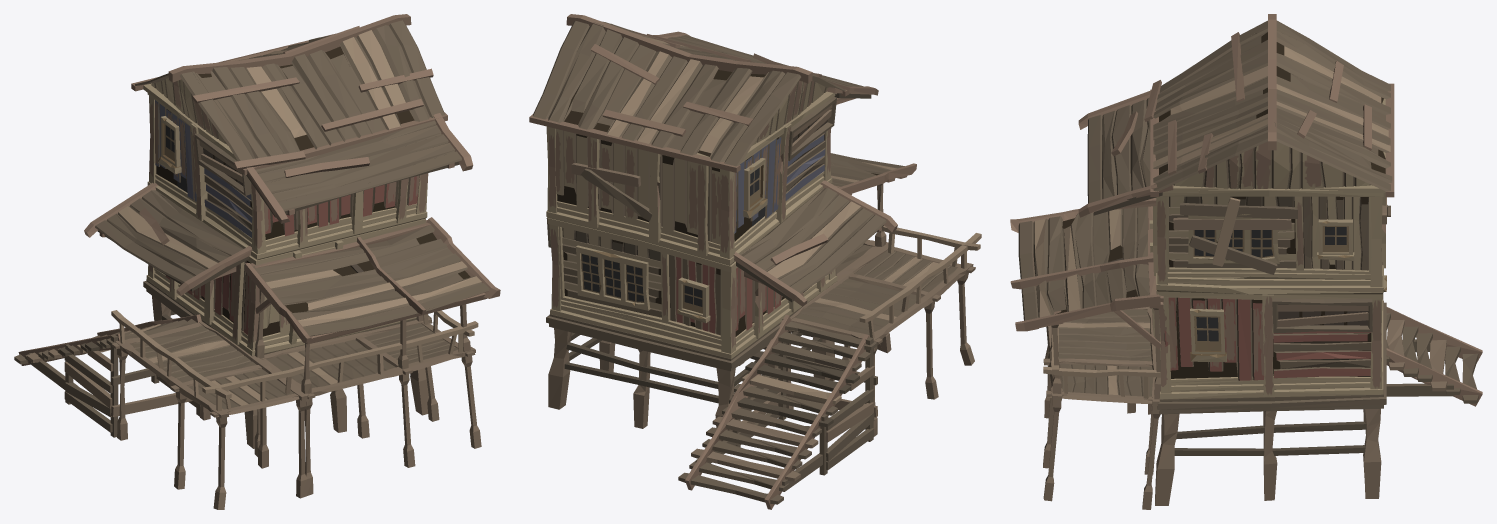
File: SM_Bld_Shanty_Preset_05.glb
The picture shows the model from 3 angles, left to right: view 1: azimuth 30°, elevation 25°; view 2: azimuth 150°, elevation 25°; view 3: azimuth 270°, elevation 25°; orthographic projection. The views are drawn at different scales.
Parts seen in each view (by area): view 1: SM_Bld_Shanty_Preset_05_part00; view 2: SM_Bld_Shanty_Preset_05_part00; view 3: SM_Bld_Shanty_Preset_05_part00.
Boxes of the visible parts, left/top/right/bottom form: SM_Bld_Shanty_Preset_05_part00: left=14, top=14, right=500, bottom=509; SM_Bld_Shanty_Preset_05_part00: left=529, top=14, right=981, bottom=509; SM_Bld_Shanty_Preset_05_part00: left=1010, top=14, right=1482, bottom=509.
Bounding box in the file's own units: 8.38 × 9.38 × 10.35.
Materials: 1 (1 with a texture image).
